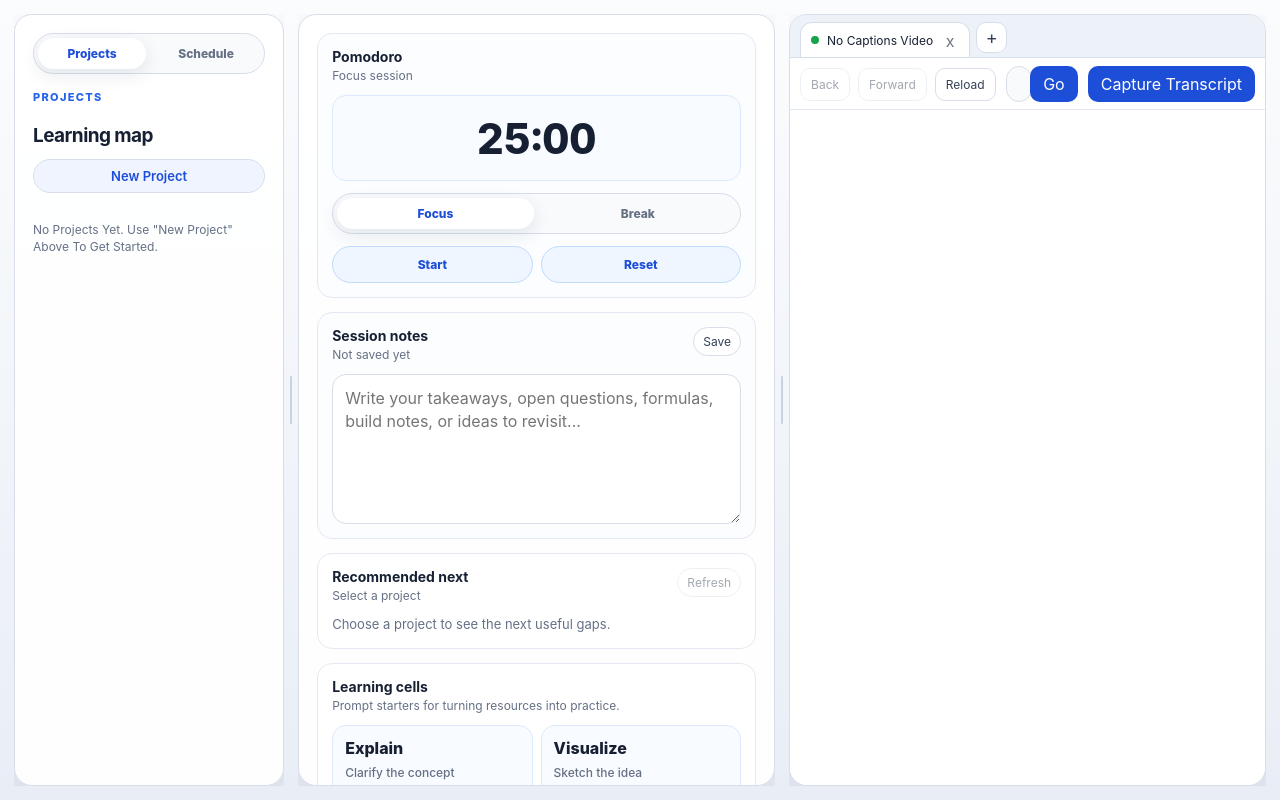
App › shows a clear message when the YouTube transcript panel is not open
The image size is (1280, 800).
Click the button "Capture Transcript". click: (1171, 84)
box: [1088, 66, 1255, 102]
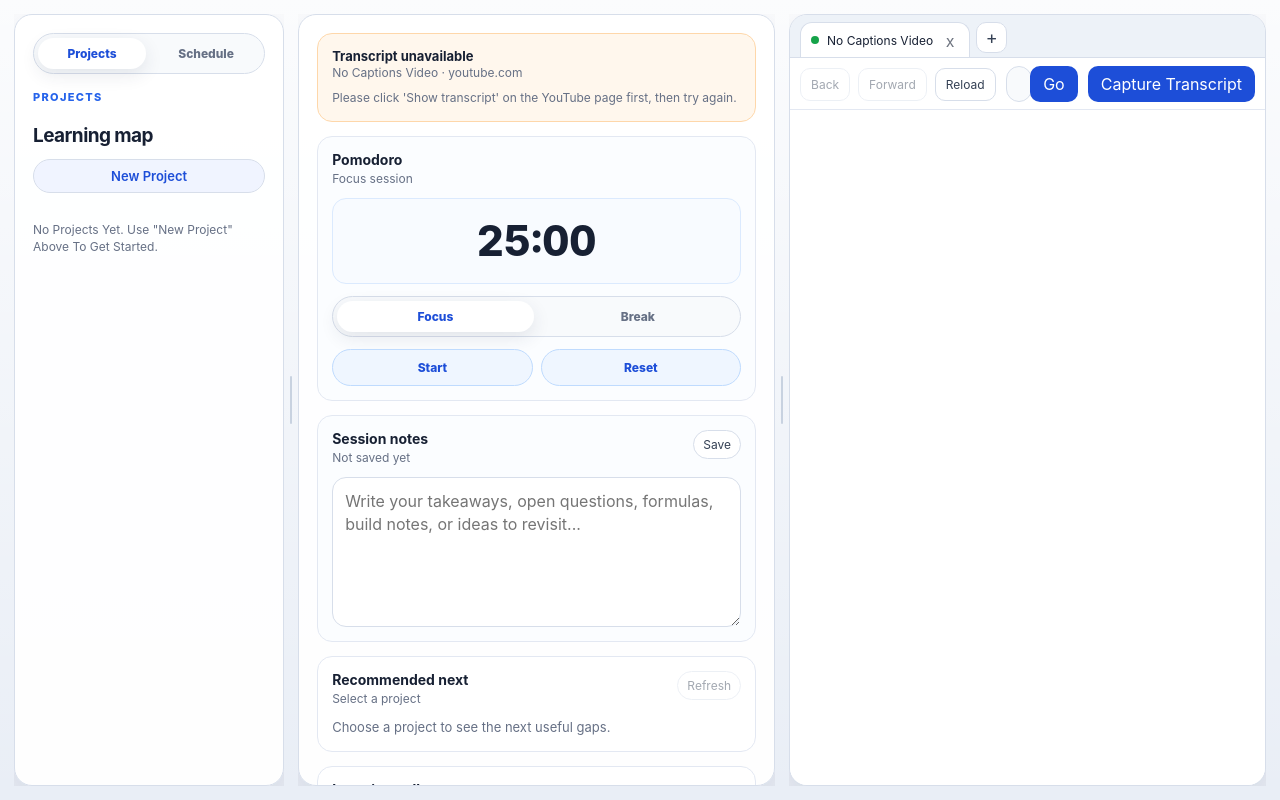
Check: the text "Transcript unavailable" is shown, box [332, 48, 473, 64]
Check: the text "Please click 'Show transcript' on the YouTube page first, then try again." is shown, box [332, 89, 741, 107]
